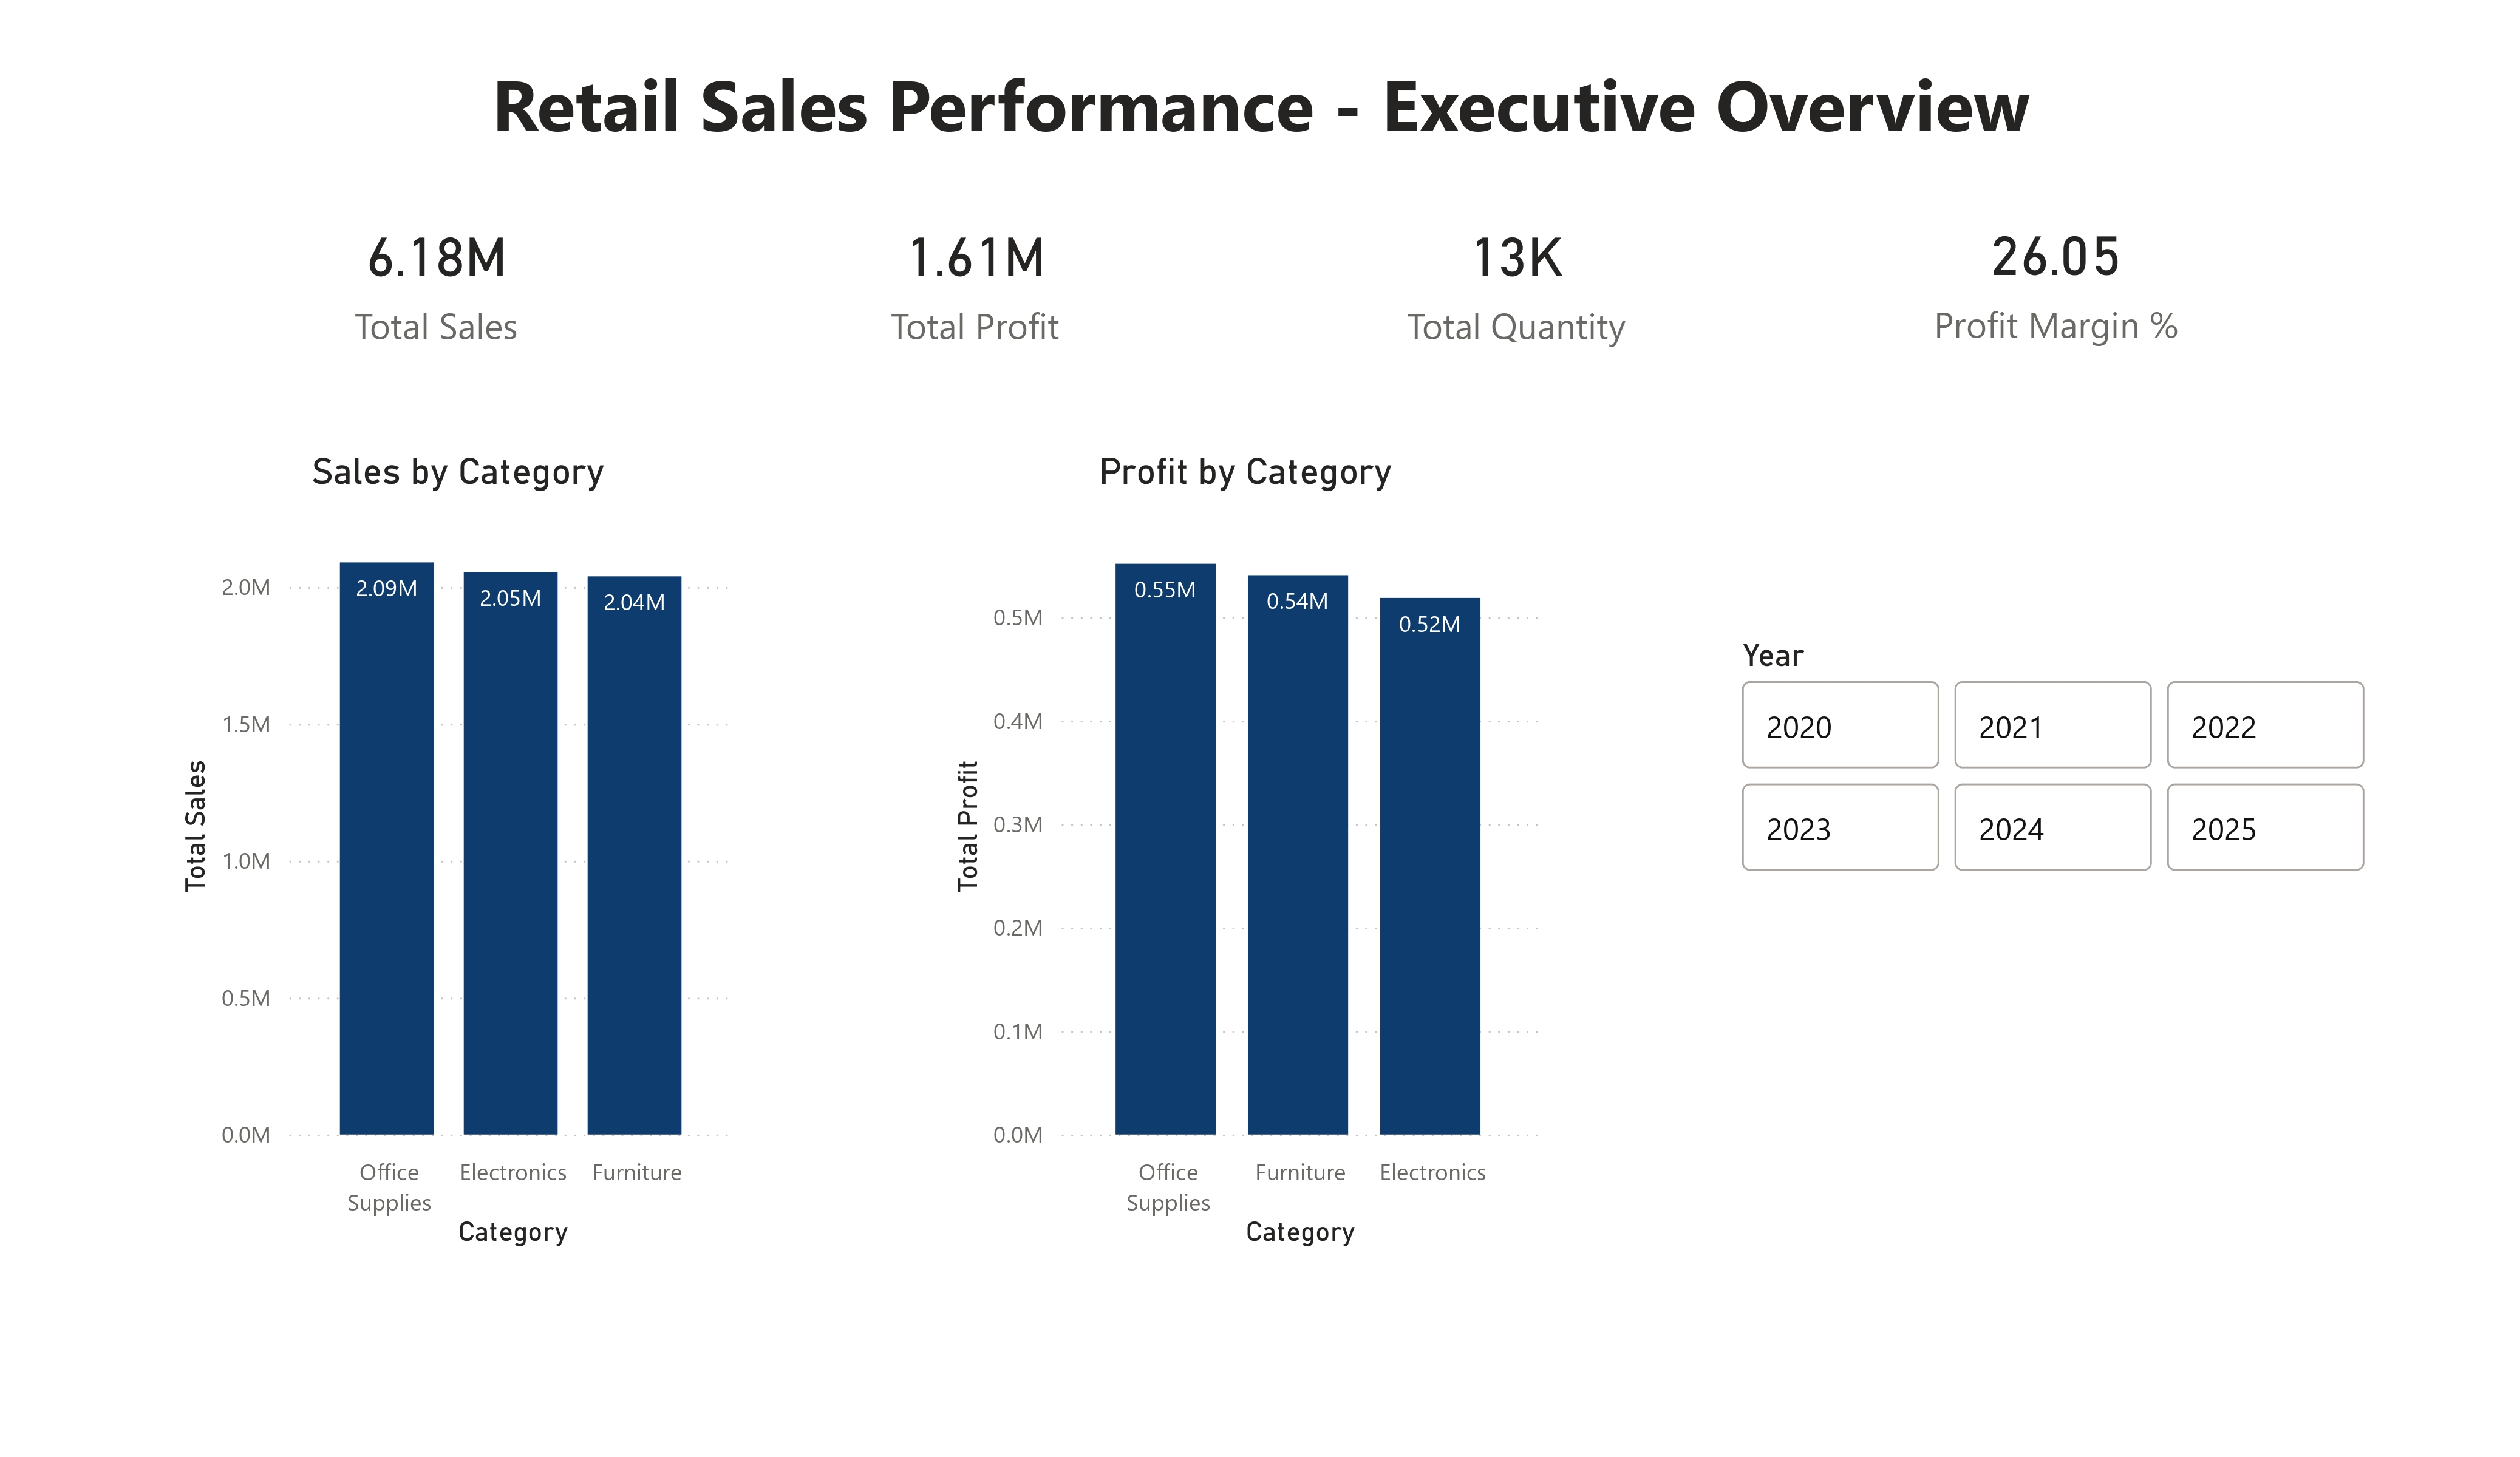

Layout of this report page (visuals, bound fields, positions):
{"tool":"powerbi","page":{"name":"Executive Overview","canvas":[1280,720],"ordinal":0},"visuals":[{"type":"card","fields":{"Values":["public retail_sales.Total Sales"]},"box":[84.5,78.9,241.6,85.5],"z":0,"group":"g1"},{"type":"clusteredColumnChart","title":"Sales by Category","fields":{"Category":["public retail_sales.category"],"Y":["public retail_sales.Total Sales"]},"box":[66,213,303.3,424.8],"z":0},{"type":"card","fields":{"Values":["public retail_sales.Total profit"]},"box":[369,78.9,241.6,85.5],"z":1000,"group":"g1"},{"type":"clusteredColumnChart","title":"Profit by Category","fields":{"Category":["public retail_sales.category"],"Y":["public retail_sales.Total Profit"]},"box":[473.4,213,318.3,424.8],"z":1000},{"type":"card","fields":{"Values":["public retail_sales.Total Quantity"]},"box":[653.4,78.9,241.6,85.5],"z":2000,"group":"g1"},{"type":"advancedSlicerVisual","fields":{"Values":["public retail_sales.order_date.Variation.Date Hierarchy.Year"]},"box":[889,311.4,339.2,129.6],"z":2000},{"type":"textbox","box":[1.2,0,1279.1,66],"z":3000},{"type":"card","fields":{"Values":["public retail_sales.Profit Margin %"]},"box":[937.6,78.7,243.1,85.2],"z":3000,"group":"g1"},{"type":"group","id":"g1","title":"Group 1","box":[84.5,78.7,1096.2,85.7],"z":4000}]}

Visuals, with their boxes in screenshot pixels (x1, y1, x2, y2):
card - public retail_sales.Total Sales: l=206, t=195, r=664, b=358
"Sales by Category" clusteredColumnChart: l=171, t=450, r=746, b=1255
card - public retail_sales.Total profit: l=746, t=195, r=1204, b=358
"Profit by Category" clusteredColumnChart: l=944, t=450, r=1548, b=1255
card - public retail_sales.Total Quantity: l=1286, t=195, r=1744, b=358
advancedSlicerVisual - public retail_sales.order_date.Variation.Date Hierarchy.Year: l=1732, t=636, r=2376, b=882
textbox: l=48, t=46, r=2474, b=171
card - public retail_sales.Profit Margin %: l=1825, t=195, r=2286, b=356
"Group 1" group: l=206, t=195, r=2286, b=358
